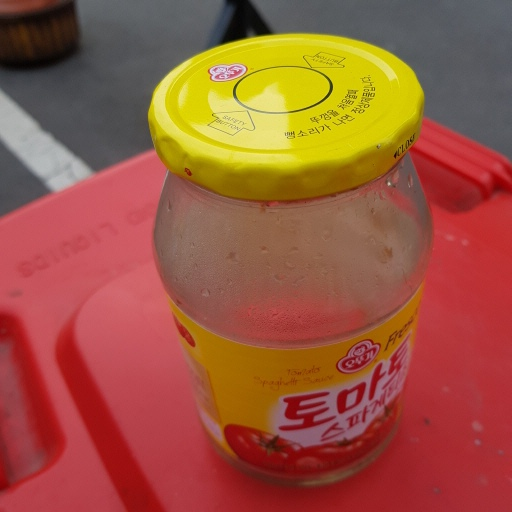Glass_5: (142, 34, 439, 480)
